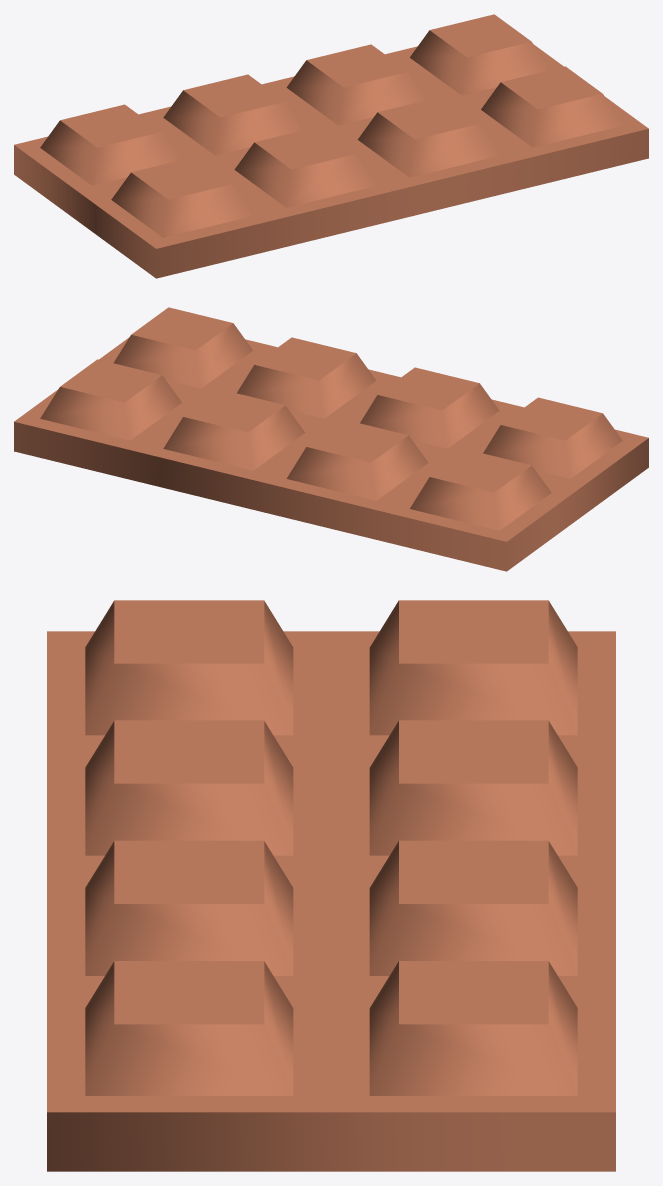
The model's file is chocolate.glb.
The picture shows the model from 3 angles, top to bottom: view 1: azimuth 30°, elevation 25°; view 2: azimuth 150°, elevation 25°; view 3: azimuth 270°, elevation 25°; orthographic projection. The views are drawn at different scales.
Parts seen in each view (by area): view 1: chocolate; view 2: chocolate; view 3: chocolate.
Boxes of the visible parts, <box> form: chocolate: <box>14,14,648,278</box>; chocolate: <box>14,307,648,571</box>; chocolate: <box>47,600,615,1171</box>.
Size of the model in its own units: 0.2924 by 0.0337 by 0.1462.
